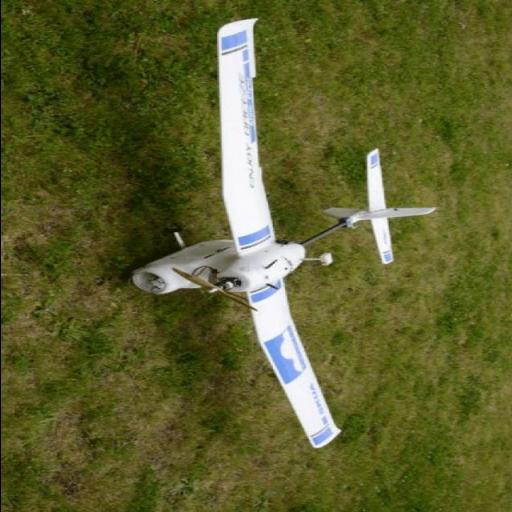uav: (108, 16, 430, 462)
